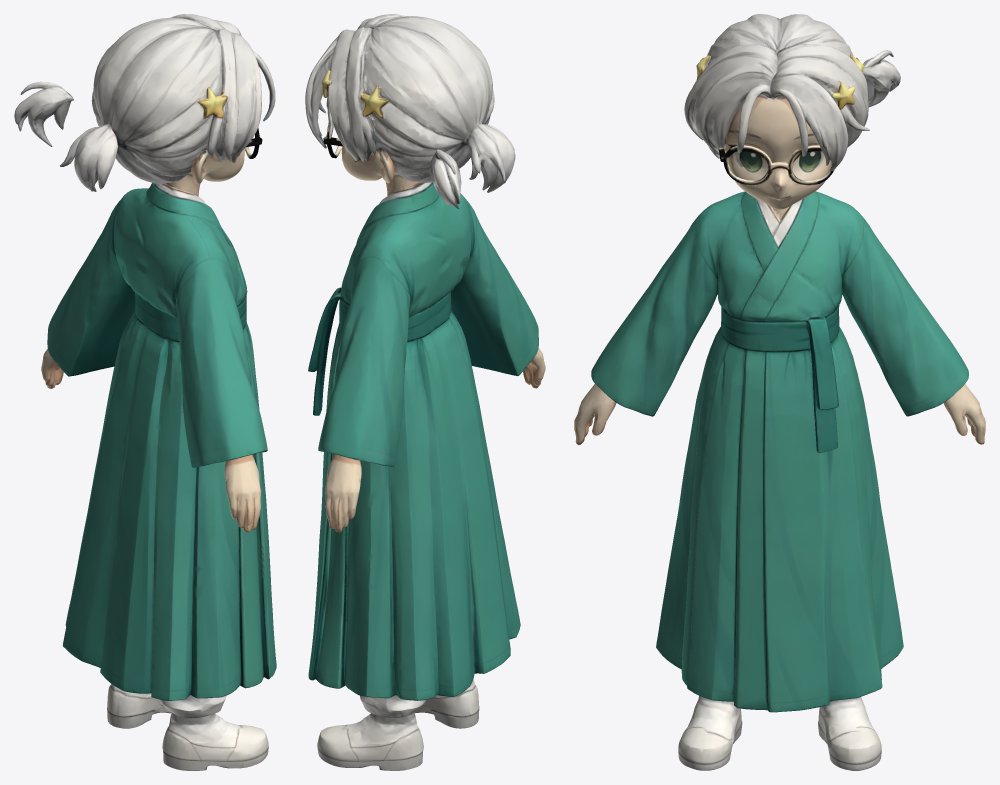
The picture shows the model from 3 angles, left to right: view 1: azimuth 30°, elevation 25°; view 2: azimuth 150°, elevation 25°; view 3: azimuth 270°, elevation 25°; orthographic projection. The views are drawn at different scales.
Visible parts, largest first — view 1: tripo_node_996d706d-ac4d-4e2d-a5d4-b5873736098e; view 2: tripo_node_996d706d-ac4d-4e2d-a5d4-b5873736098e; view 3: tripo_node_996d706d-ac4d-4e2d-a5d4-b5873736098e.
Boxes of the visible parts, bbox=[...] form: tripo_node_996d706d-ac4d-4e2d-a5d4-b5873736098e: bbox=[14, 14, 276, 770]; tripo_node_996d706d-ac4d-4e2d-a5d4-b5873736098e: bbox=[305, 14, 545, 770]; tripo_node_996d706d-ac4d-4e2d-a5d4-b5873736098e: bbox=[574, 14, 985, 770].
Size of the model in its own units: 0.2809 by 1 by 0.5143.
Materials: 1 (1 with a texture image).
